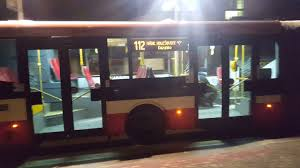out: (181, 19, 285, 137)
